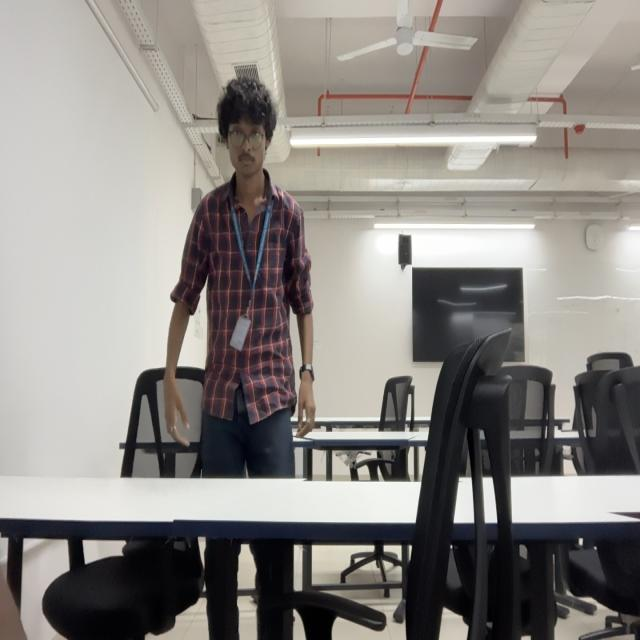darshan: (214, 73, 278, 176)
